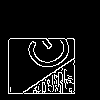G: (12, 22, 78, 82)
